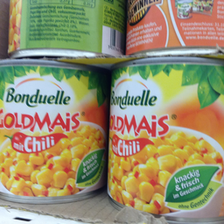corn: (103, 56, 224, 221), (1, 59, 107, 205)
